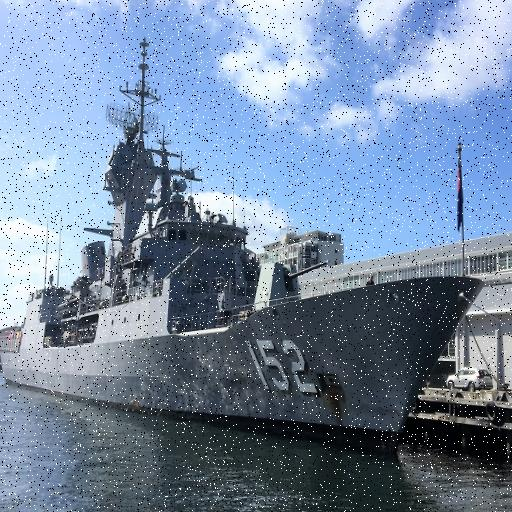Fragata: (1, 33, 494, 466)
